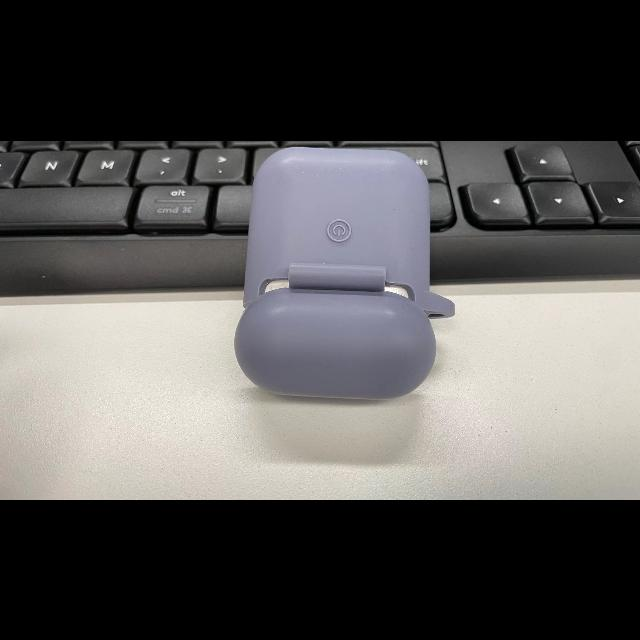airpods: (233, 148, 455, 398)
